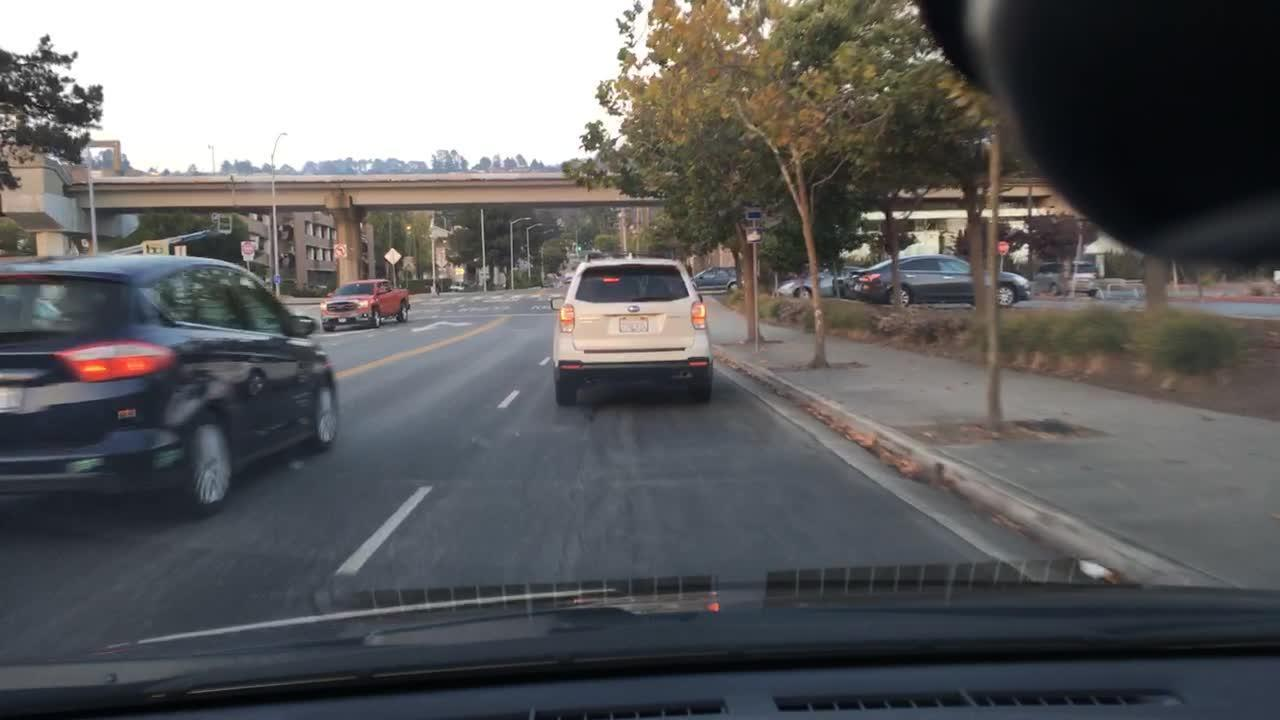subaru: (623, 301, 643, 315)
